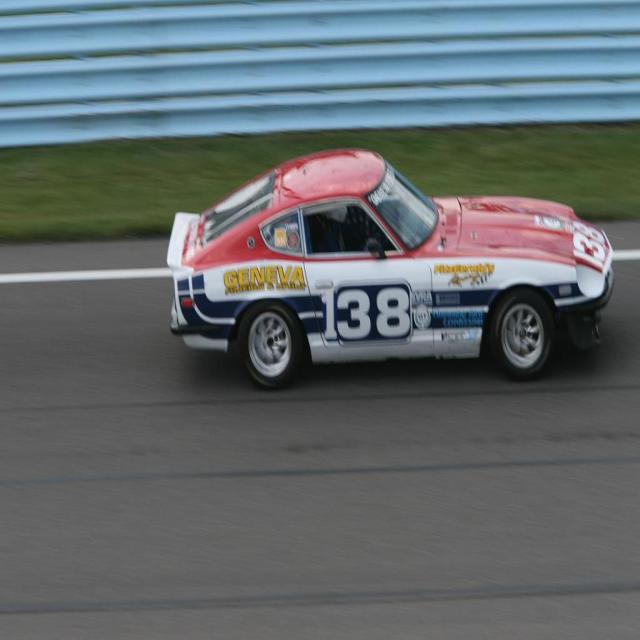car: (164, 156, 604, 379)
